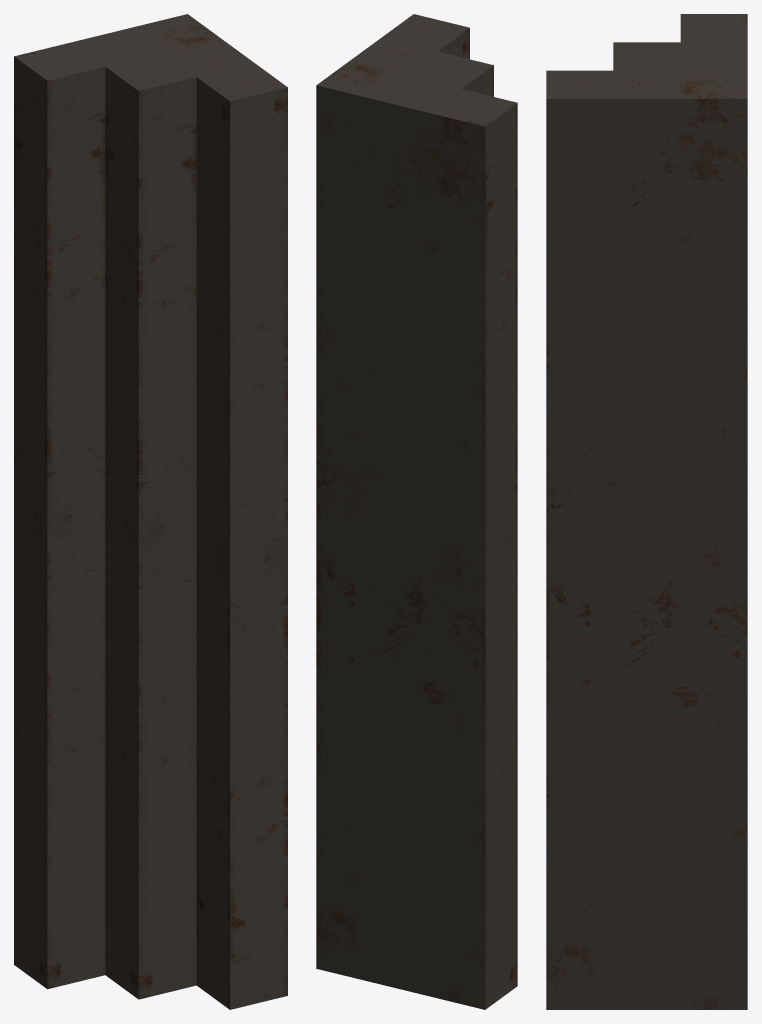
Rendered from Metal_Column_3.gltf.
3 views of the same model, side by side, from view 1: azimuth 30°, elevation 25°; view 2: azimuth 150°, elevation 25°; view 3: azimuth 270°, elevation 25° (orthographic). The views are drawn at different scales.
Visible parts, largest first — view 1: Metal_Column_3; view 2: Metal_Column_3; view 3: Metal_Column_3.
Boxes of the visible parts, bbox=[...] form: Metal_Column_3: bbox=[14, 14, 287, 1009]; Metal_Column_3: bbox=[316, 14, 517, 1009]; Metal_Column_3: bbox=[546, 14, 747, 1009].
Bounding box in the file's own units: 0.6 × 3 × 0.6.
Materials: 1 (1 with a texture image).
